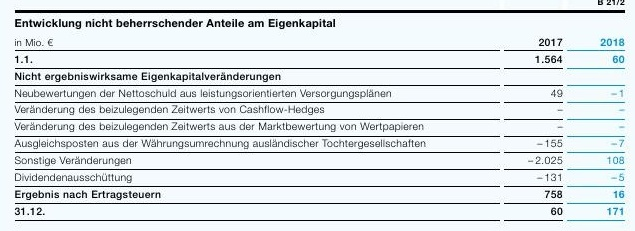table: (0, 0, 635, 231)
